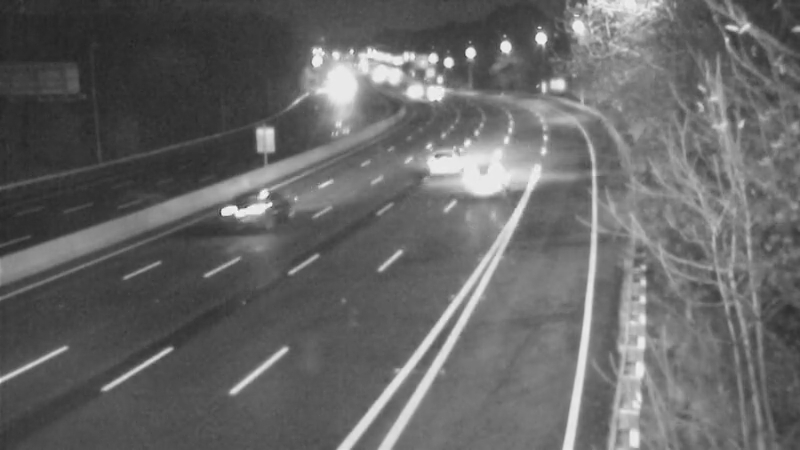vehicle: (396, 121, 476, 201), (438, 140, 518, 220), (200, 168, 280, 248)
